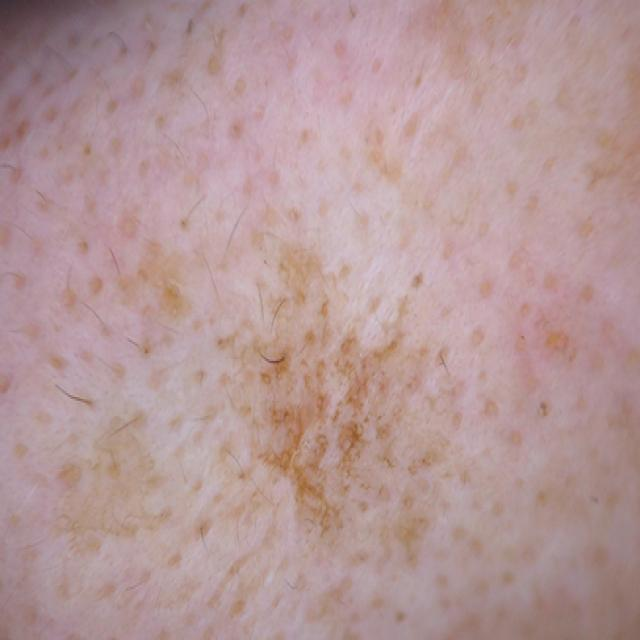Keratosis: (199, 278, 439, 569), (59, 408, 186, 610)
